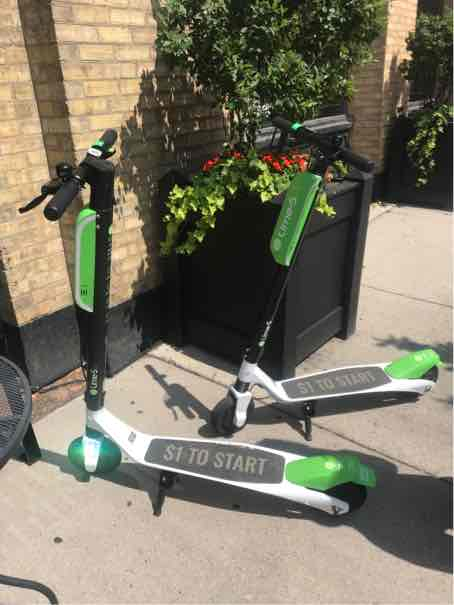scooter: (18, 117, 380, 534), (204, 85, 445, 462)
